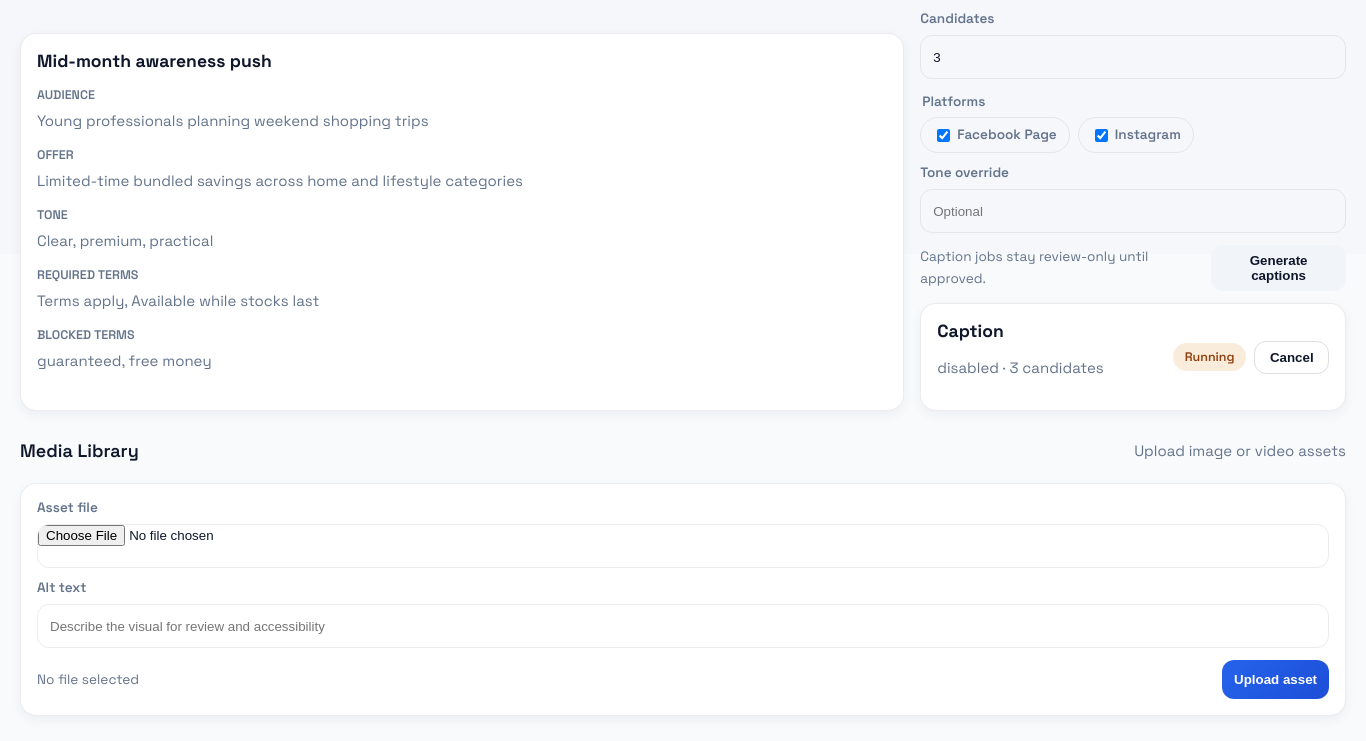
Test case: ContentOpsPage › cancels queued generation jobs and updates their state
(page scrolled)
Click the button "Cancel". click: click(1292, 357)
box: x1=1254 y1=340 x2=1329 y2=374
(page scrolled)
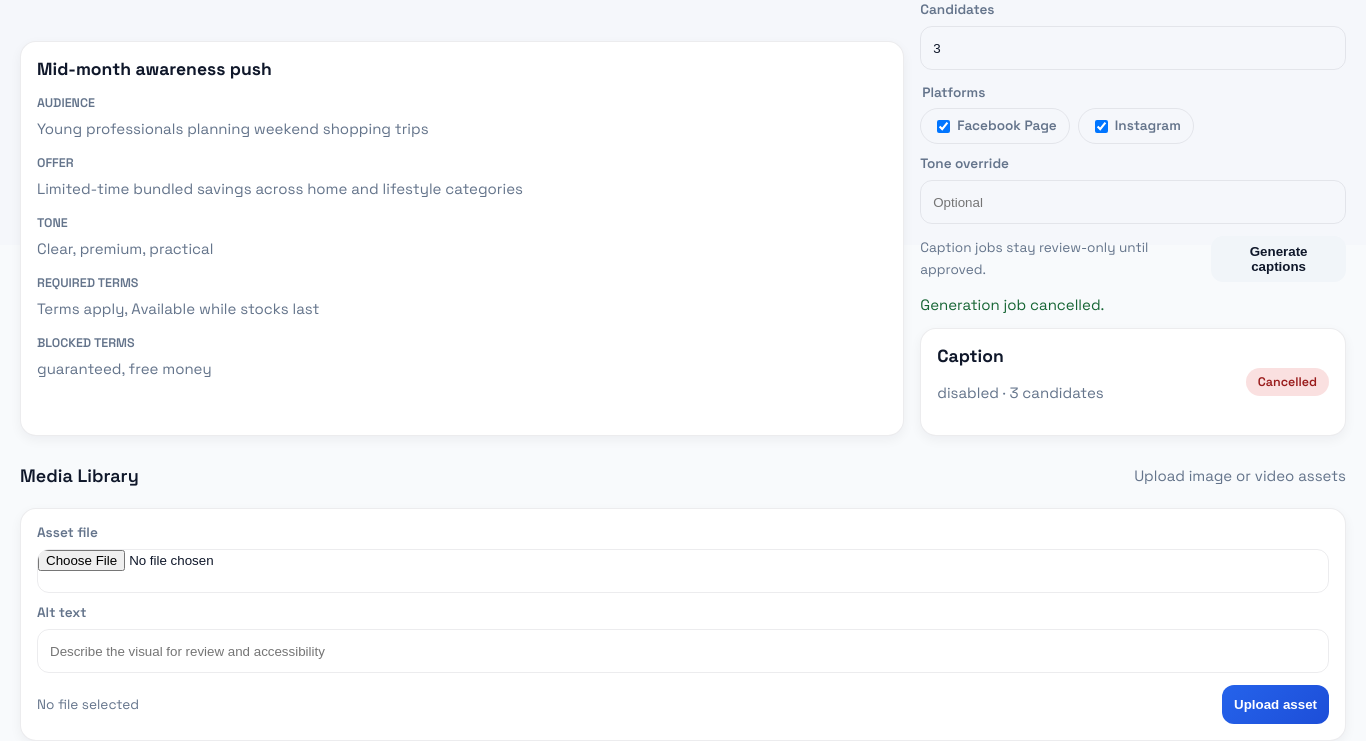
Check: the text "Generation job cancelled." is shown, box x1=920 y1=295 x2=1104 y2=314
Check: the text "Cancelled" is shown, box x1=1246 y1=368 x2=1329 y2=396
